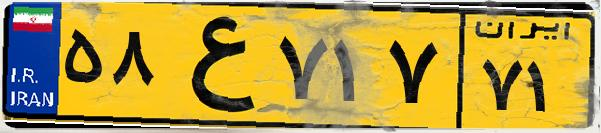1: (330, 28, 385, 110), (525, 38, 570, 115)
5: (57, 26, 110, 100)
7: (270, 28, 330, 110), (385, 28, 445, 110), (475, 38, 525, 113)
8: (110, 28, 158, 98)
ع: (158, 12, 270, 120)
